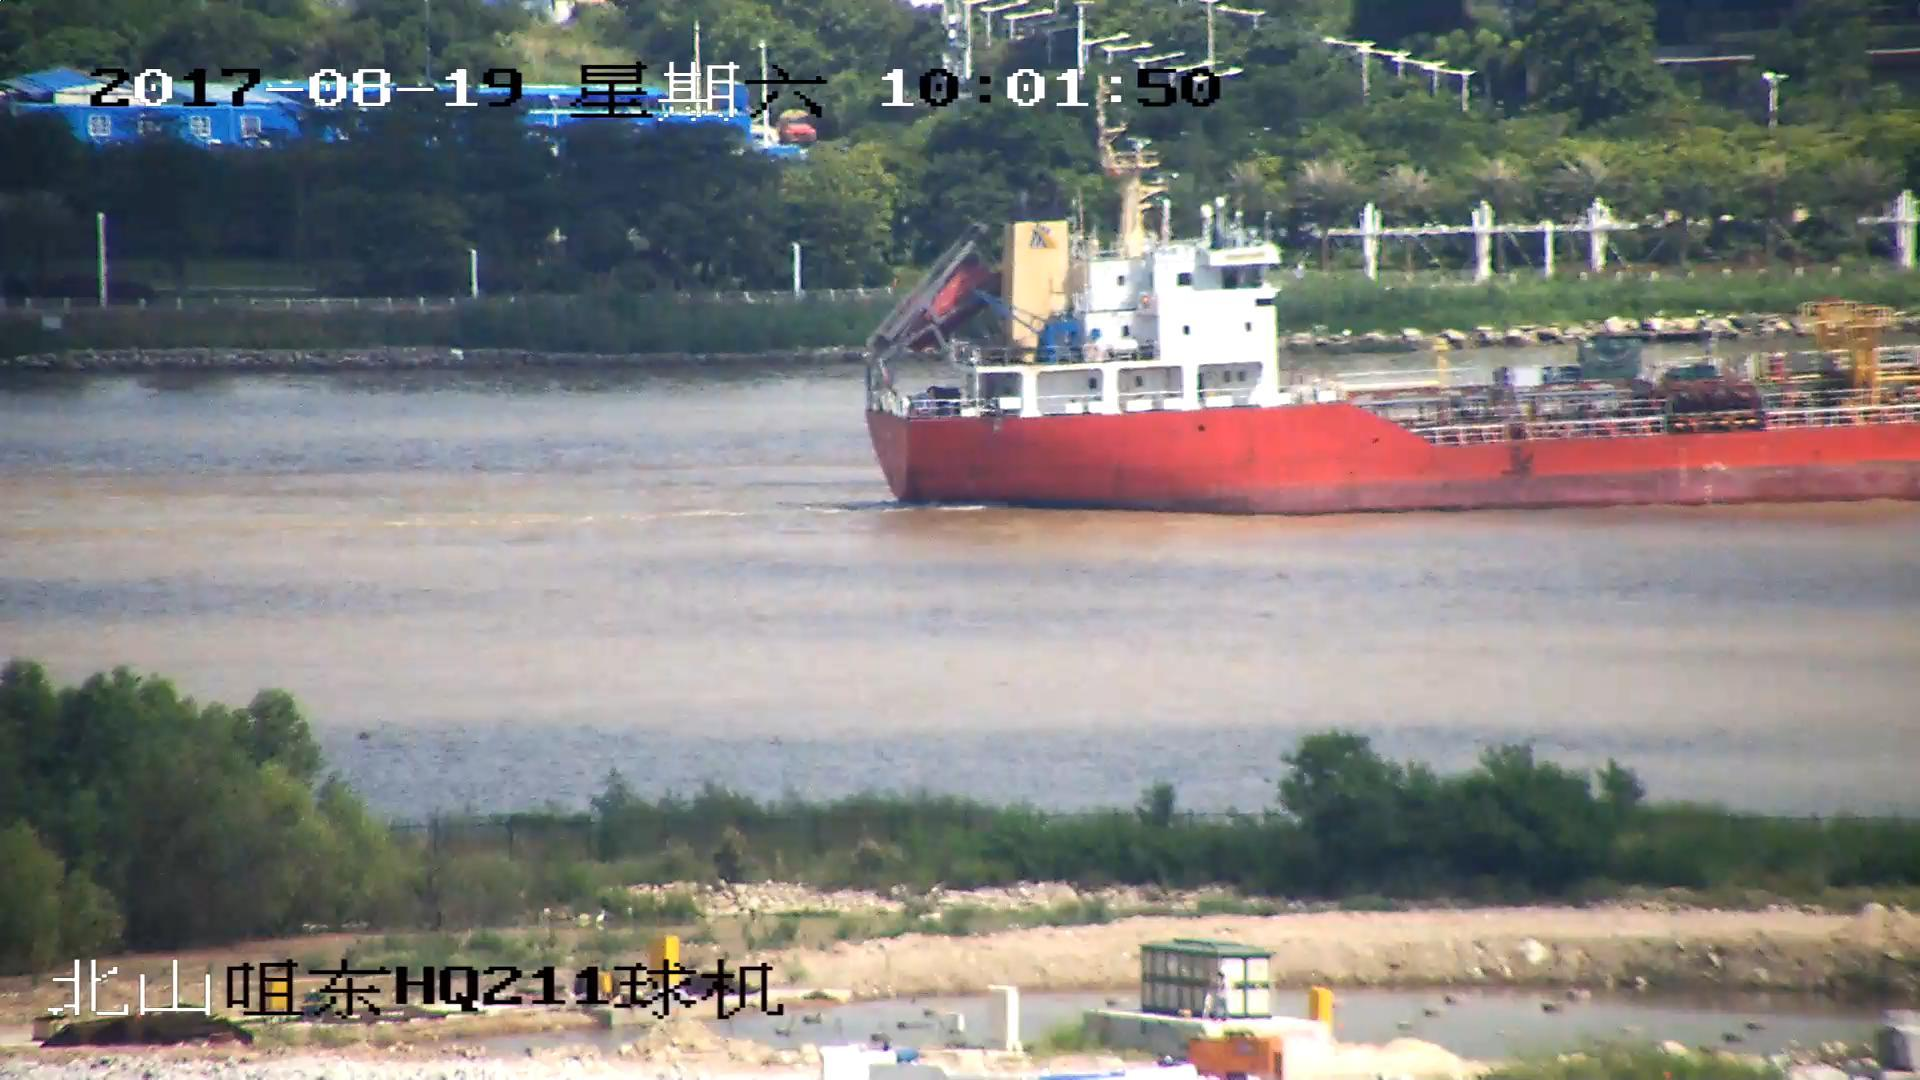Ship: (869, 112, 1920, 502)
